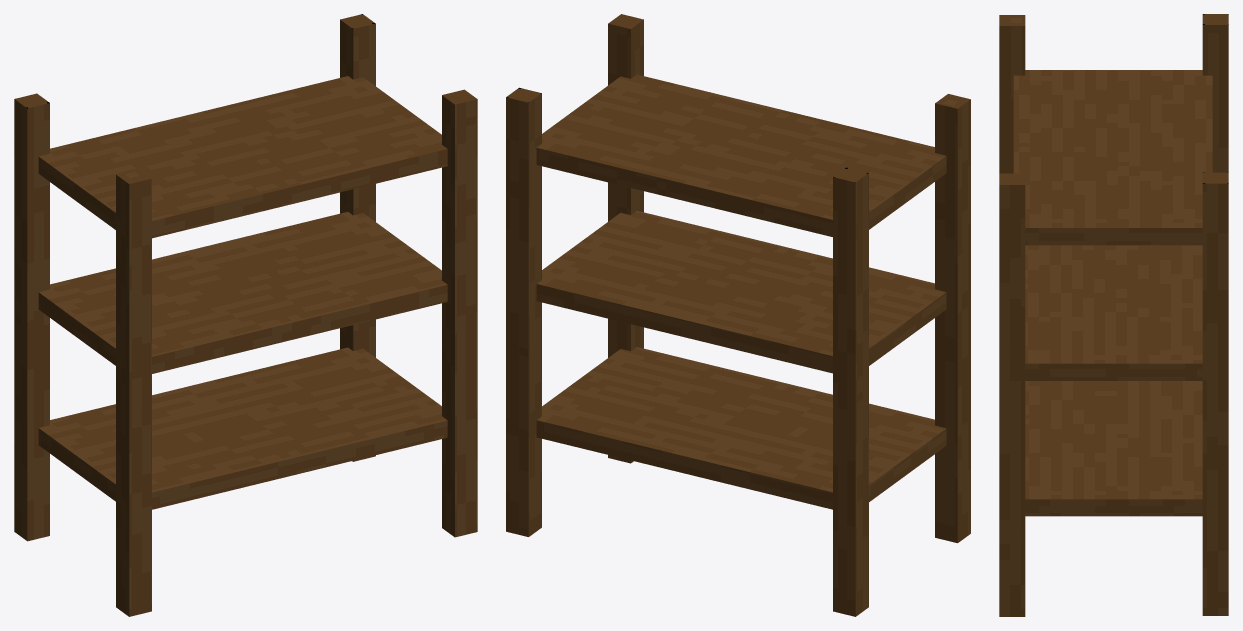
The model's file is shelf_storage.glb.
3 views of the same model, side by side, from view 1: azimuth 30°, elevation 25°; view 2: azimuth 150°, elevation 25°; view 3: azimuth 270°, elevation 25° (orthographic).
Parts seen in each view (by area): view 1: shelf_storage; view 2: shelf_storage; view 3: shelf_storage.
Boxes of the visible parts, box(x1,y1,x2,y2) form: shelf_storage: box(14, 14, 477, 616); shelf_storage: box(506, 14, 970, 616); shelf_storage: box(999, 14, 1228, 616).
Size of the model in its own units: 1.07 by 1.28 by 0.6136.
1 material, 1 textured.
